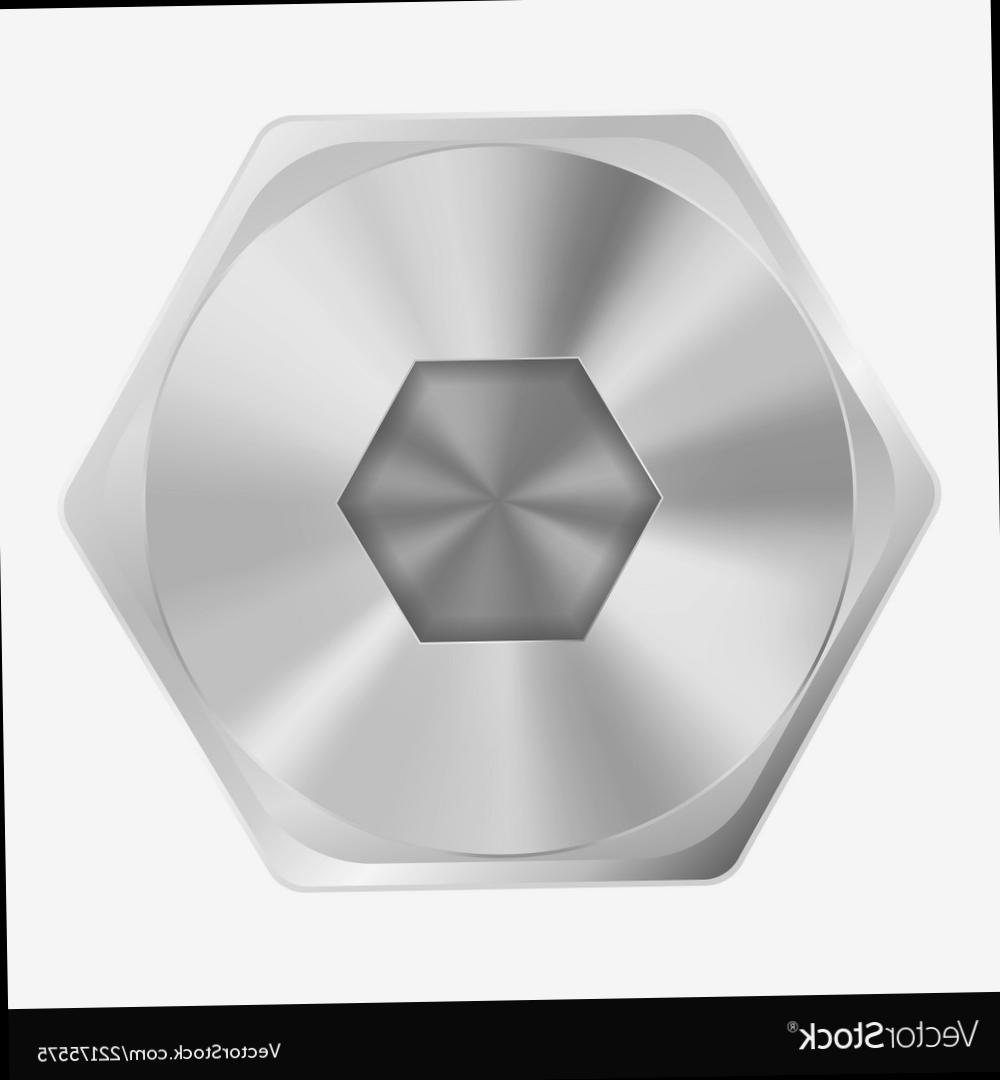screw: (55, 105, 950, 900)
